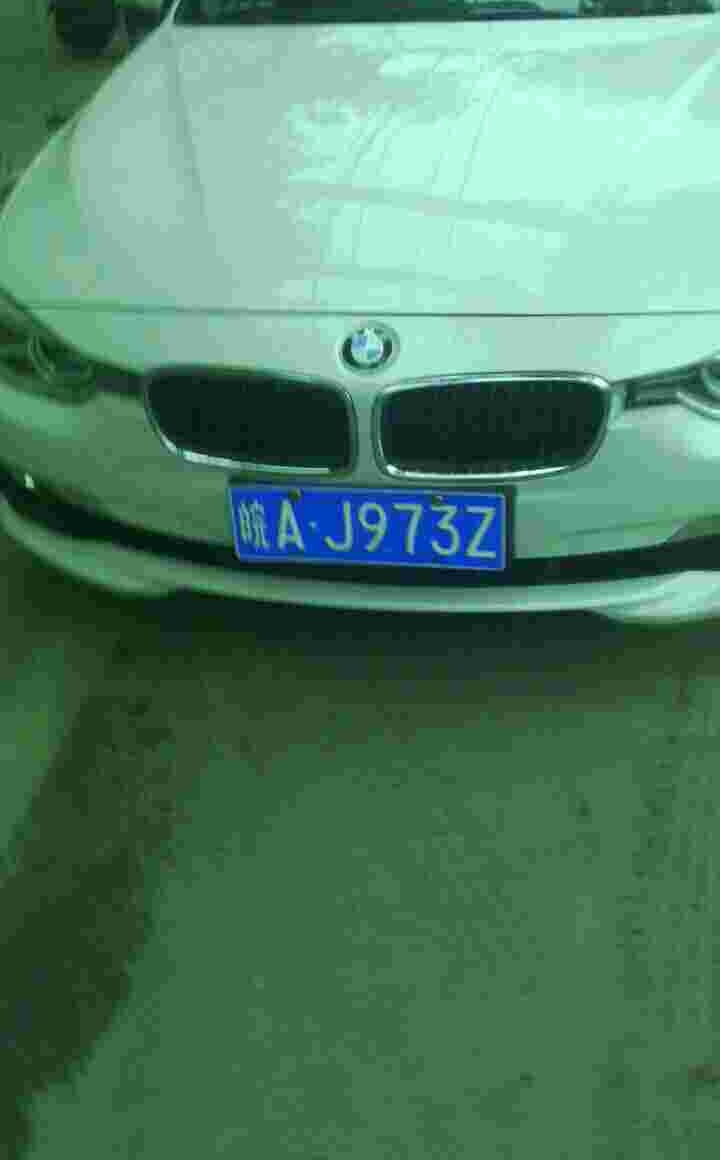license_plate: (228, 485, 505, 577)
